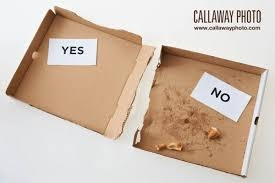paper: (2, 4, 148, 144), (134, 33, 270, 178)
